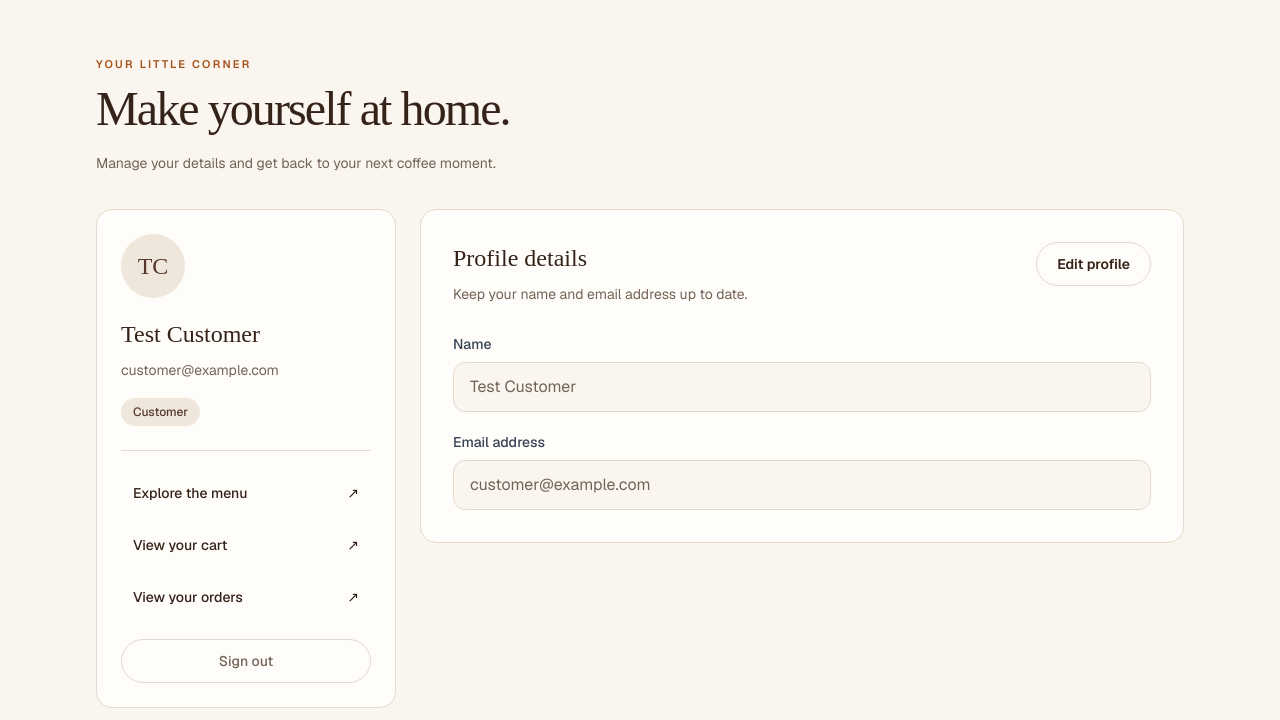
Test: AccountPage › submits trimmed profile values and confirms the save
Click the button "Edit profile": [1094, 264] box [1036,242,1151,286]
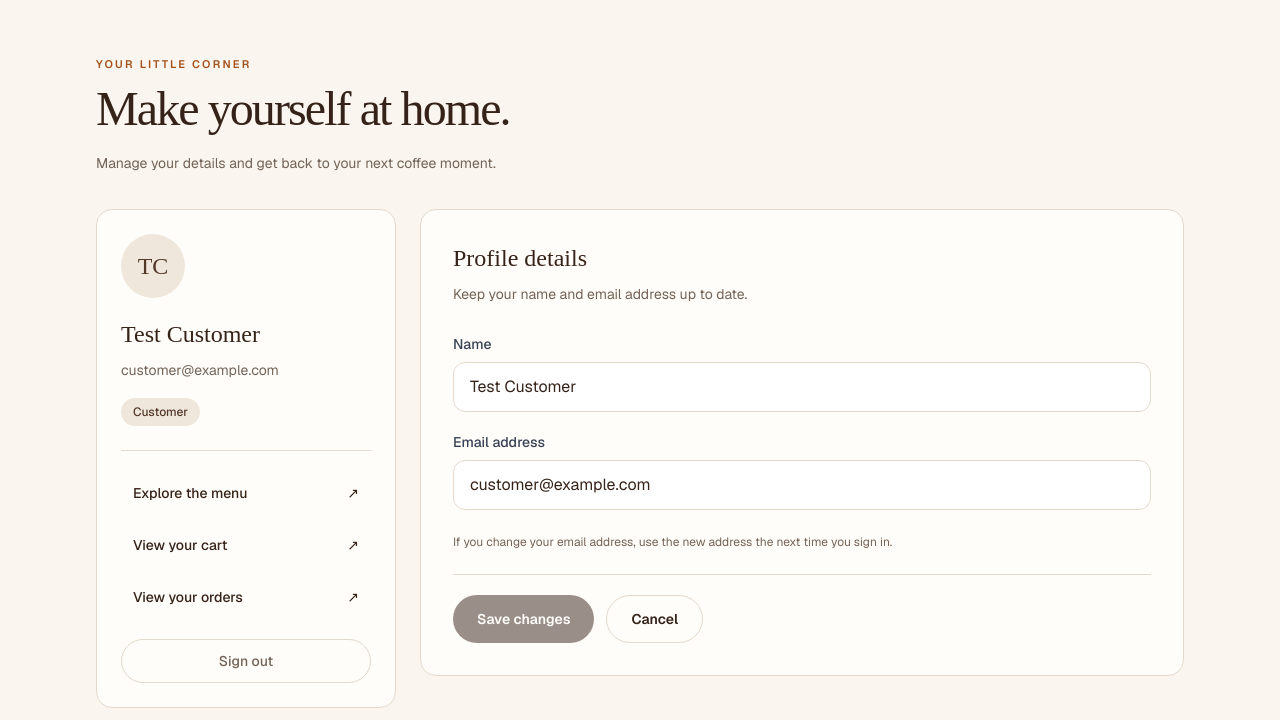
Replace the text in the field labelled "Name" with "  Updated Customer  ": [802, 386] box [453,362,1151,412]
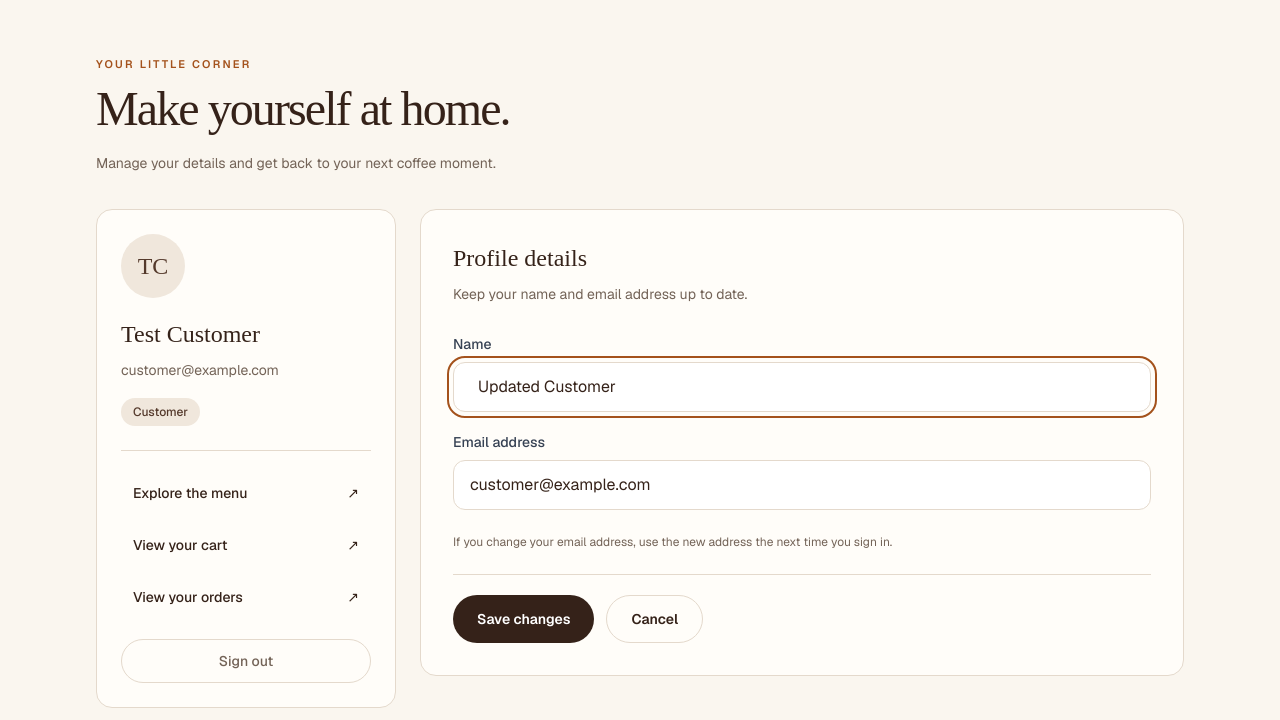
Click the button "Save changes": [524, 618] box [453,594,594,642]
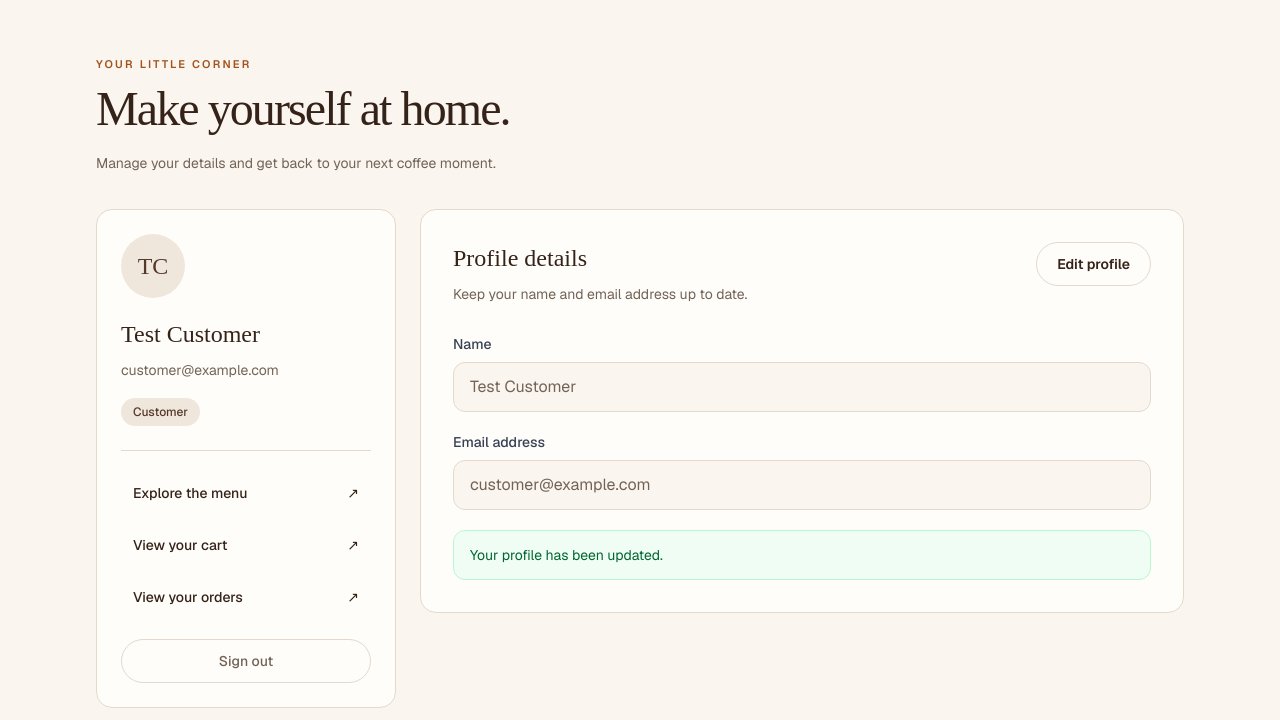
Now the message reads "Your profile has been updated.", box [470,546,663,564]
Now the button "Edit profile" is shown, box [1036,242,1151,286]
